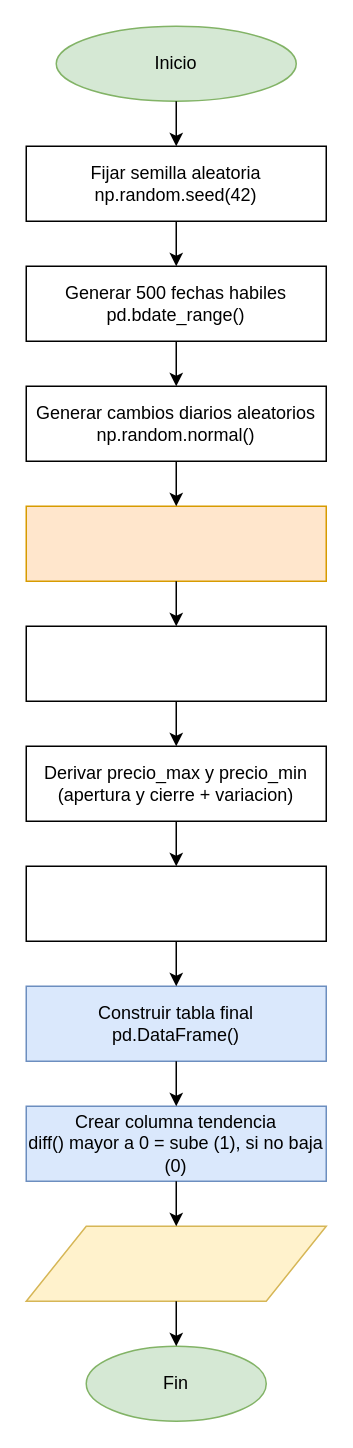
Some shapes in this 353 by 1448 pixel diagram are drawn without their labels. Here are the shapes that lost their labels. From the top down, the centre of each, then its label:
At [175,543]: "Calcular precio_cierre (caminata aleatoria: np.cumprod)".
At [175,663]: "Derivar precio_apertura a partir del cierre".
At [175,903]: "Generar volumen negociado np.random.randint()".
At [175,1263]: "datos_mercado_financiero.csv".
